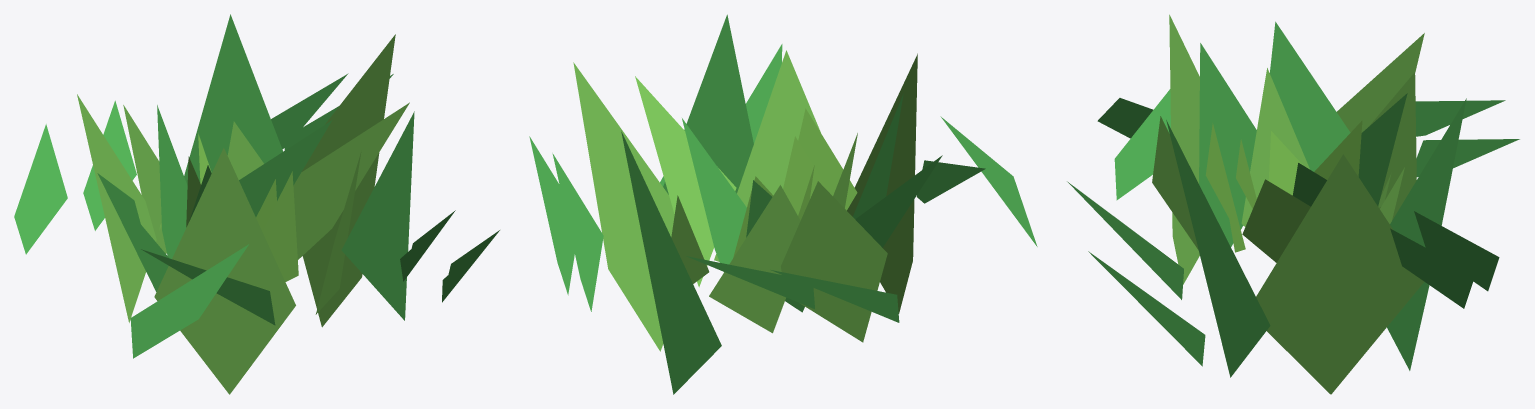
File: potatoe_ready.glb
3 views of the same model, side by side, from view 1: azimuth 30°, elevation 25°; view 2: azimuth 150°, elevation 25°; view 3: azimuth 270°, elevation 25° (orthographic). The views are drawn at different scales.
Parts seen in each view (by area): view 1: Plane.018, Plane.014, Plane.006, Plane.015, Plane.017, Plane.013, Plane.022, Plane.023, Plane.008, Plane.002, Plane.003, Plane.016 (+11 smaller); view 2: Plane.006, Plane.013, Plane.015, Plane.014, Plane.010, Plane.018, Plane.019, Plane.017, Plane.002, Plane.026, Plane.025, Plane.016 (+11 smaller); view 3: Plane.006, Plane.014, Plane.005, Plane.015, Plane.016, Plane.018, Plane.017, Plane.013, Plane.007, Plane.025, Plane.004, Plane.010 (+14 smaller).
Part boxes in pixels (x1,y1,x2,y2): Plane.018: (154,148,295,394); Plane.014: (341,111,414,320); Plane.006: (302,34,395,327); Plane.015: (184,14,282,185); Plane.017: (293,102,409,259); Plane.013: (77,94,161,322); Plane.022: (130,244,248,358); Plane.023: (14,124,67,254); Plane.008: (157,105,187,258); Plane.002: (239,120,332,216); Plane.003: (262,171,298,281); Plane.016: (97,173,168,291); Plane.006: (573,62,674,351); Plane.013: (781,181,887,342); Plane.015: (621,130,721,394); Plane.014: (663,14,753,194); Plane.010: (709,185,800,333); Plane.018: (847,53,917,313); Plane.019: (714,50,820,261); Plane.017: (635,76,736,287); Plane.002: (682,118,746,264); Plane.026: (552,153,603,311); Plane.025: (529,136,574,295); Plane.016: (855,155,942,247); Plane.006: (1256,154,1424,394); Plane.014: (1166,120,1270,377); Plane.005: (1199,43,1256,246); Plane.015: (1387,98,1466,370); Plane.016: (1269,21,1350,171); Plane.018: (1169,14,1199,284); Plane.017: (1242,179,1310,262); Plane.013: (1337,33,1424,207); Plane.007: (1241,68,1309,226); Plane.025: (1390,228,1475,308); Plane.004: (1114,89,1170,200); Plane.010: (1369,72,1416,220).
Bounding box in the file's own units: 1.13 × 0.7973 × 1.12.
